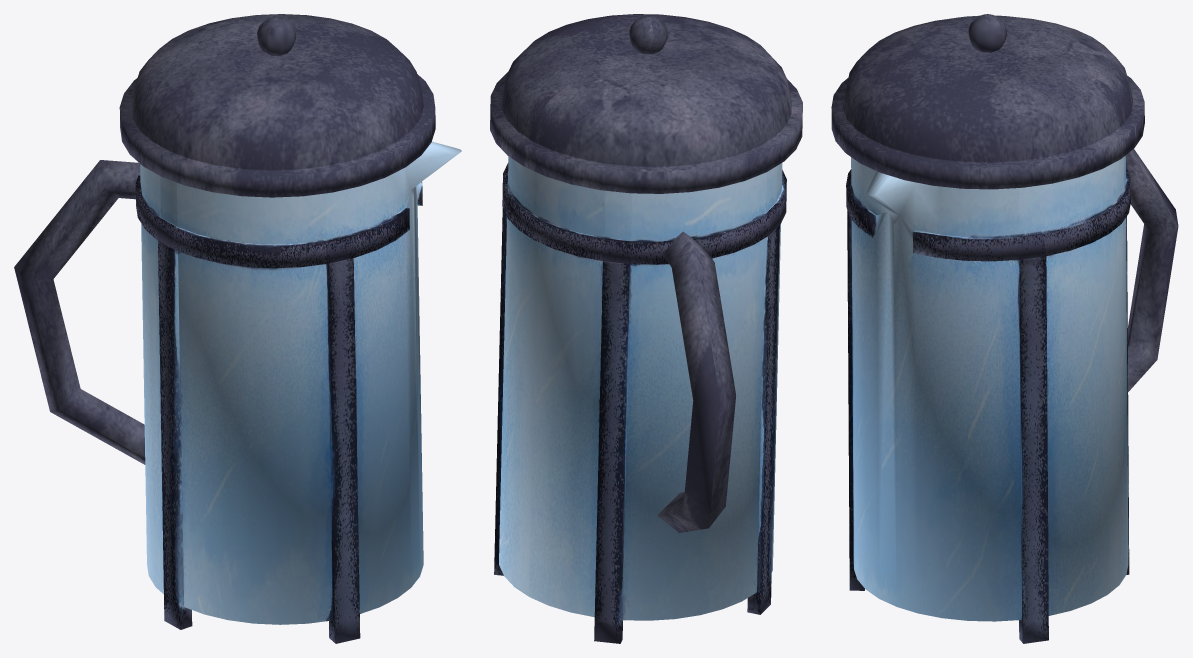
File: 02-cafetierepiston-model.glb
3 views of the same model, side by side, from view 1: azimuth 30°, elevation 25°; view 2: azimuth 150°, elevation 25°; view 3: azimuth 270°, elevation 25° (orthographic).
Visible parts, largest first — view 1: 02-cafetierepiston-model; view 2: 02-cafetierepiston-model; view 3: 02-cafetierepiston-model.
Part boxes in pixels (bbox=[...]): 02-cafetierepiston-model: bbox=[14, 14, 461, 643]; 02-cafetierepiston-model: bbox=[490, 14, 802, 643]; 02-cafetierepiston-model: bbox=[831, 14, 1178, 643].
Bounding box in the file's own units: 2.72 × 4.88 × 2.69.
1 material, 1 textured.
